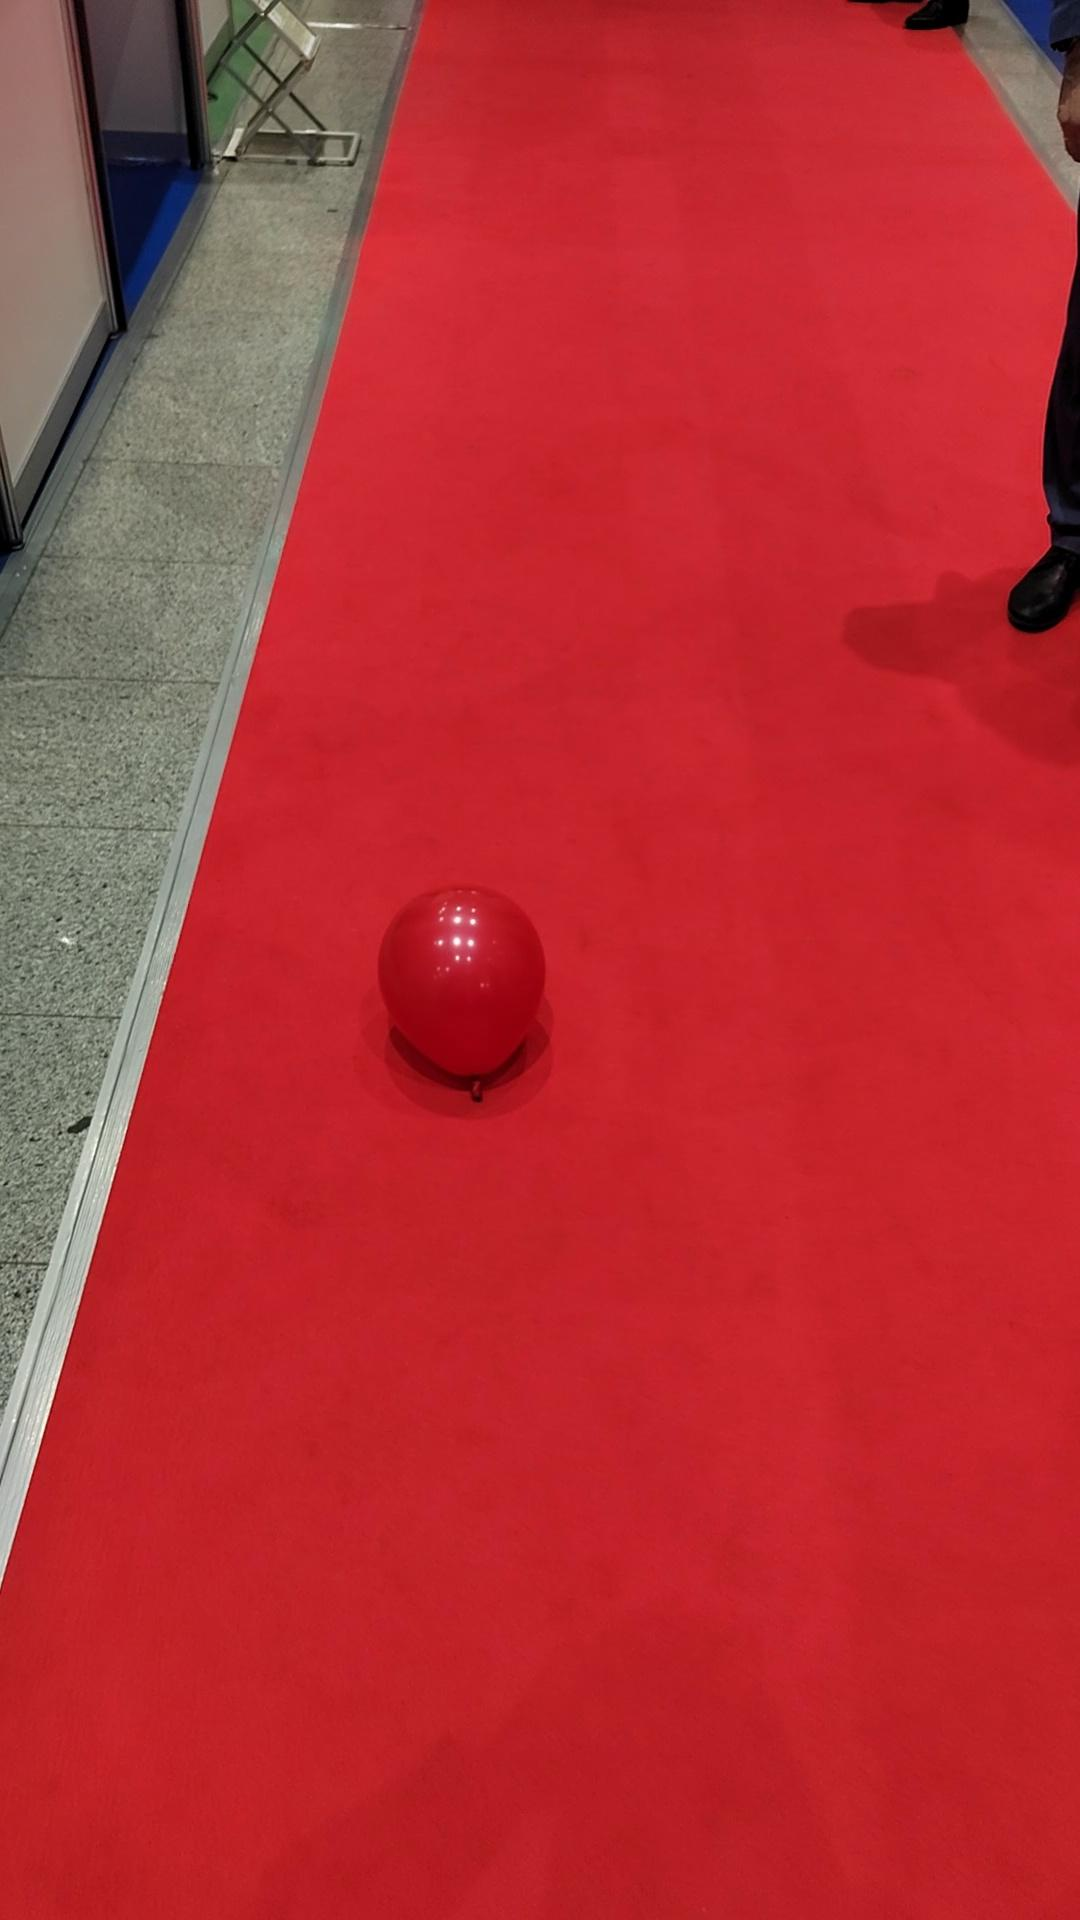red: (377, 886, 546, 1081)
